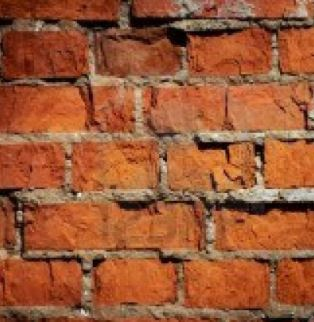brick: (23, 200, 206, 252), (149, 86, 305, 132), (1, 86, 137, 135), (1, 26, 88, 81), (74, 139, 161, 192), (167, 142, 258, 191), (215, 205, 314, 250), (185, 257, 270, 308), (1, 256, 84, 308), (93, 256, 179, 306), (189, 26, 271, 77), (98, 25, 179, 76), (1, 143, 66, 192), (262, 139, 314, 189), (276, 257, 314, 304)
